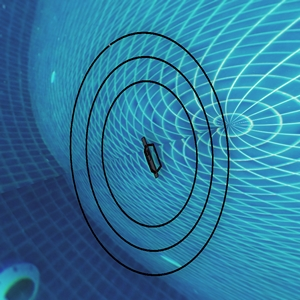circle: (63, 18, 240, 288)
submarine: (139, 138, 161, 166)
